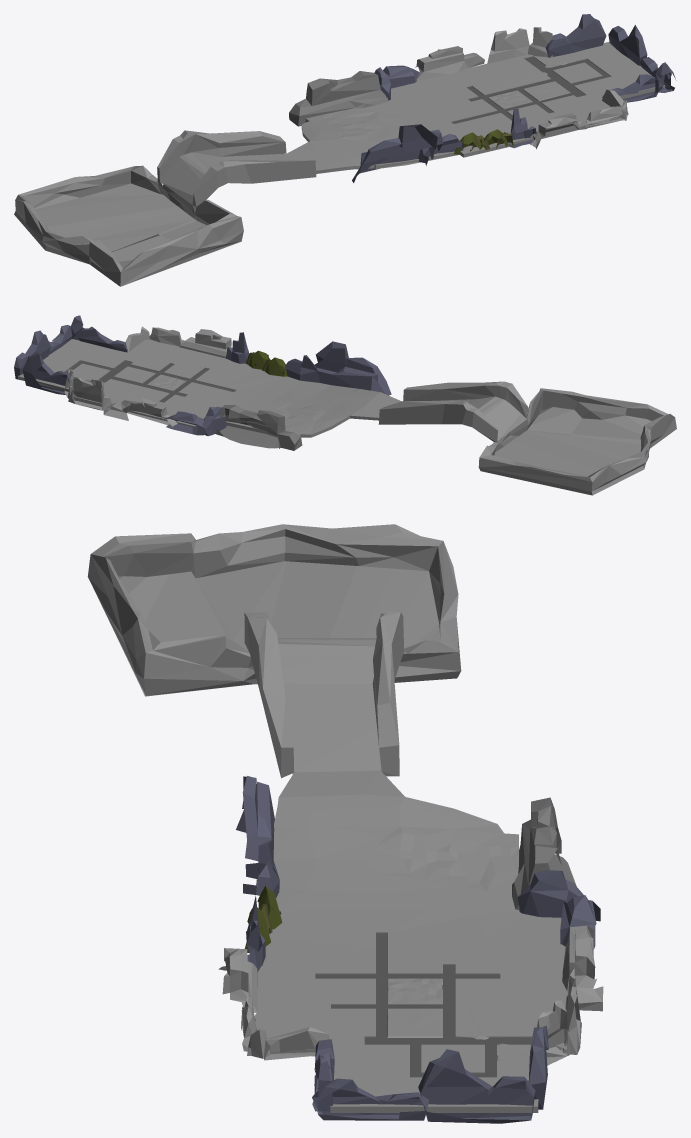
The model's file is WIL_ThirdLevel_Border_Final_Buildings not on level_Retry 1.fbx.
3 renders of one model, top to bottom at view 1: azimuth 30°, elevation 25°; view 2: azimuth 150°, elevation 25°; view 3: azimuth 270°, elevation 25°, orthographic. The views are drawn at different scales.
Visible parts, largest first — view 1: City Base; view 2: City Base; view 3: City Base.
Part boxes in pixels (left/top/right/bottom): City Base: left=14, top=14, right=676, bottom=286; City Base: left=14, top=315, right=676, bottom=495; City Base: left=87, top=524, right=603, bottom=1123.
Bounding box in the file's own units: 269717 × 24181 × 105235.
